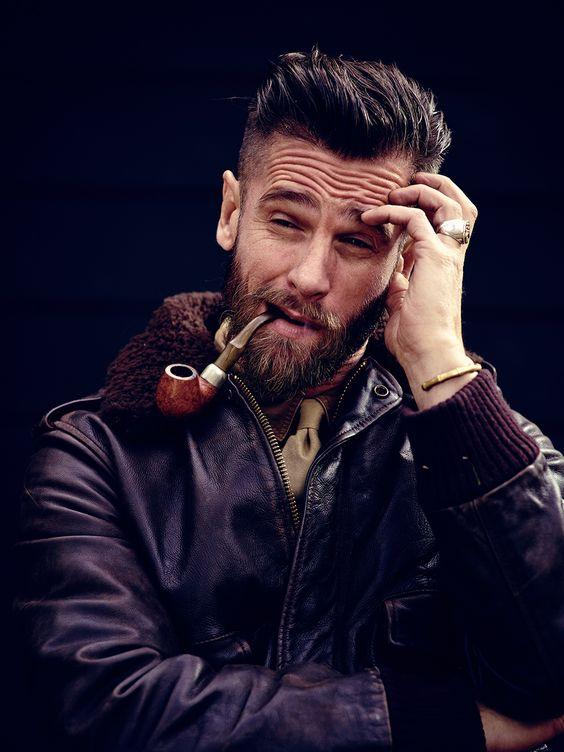trubka: (156, 317, 268, 416)
